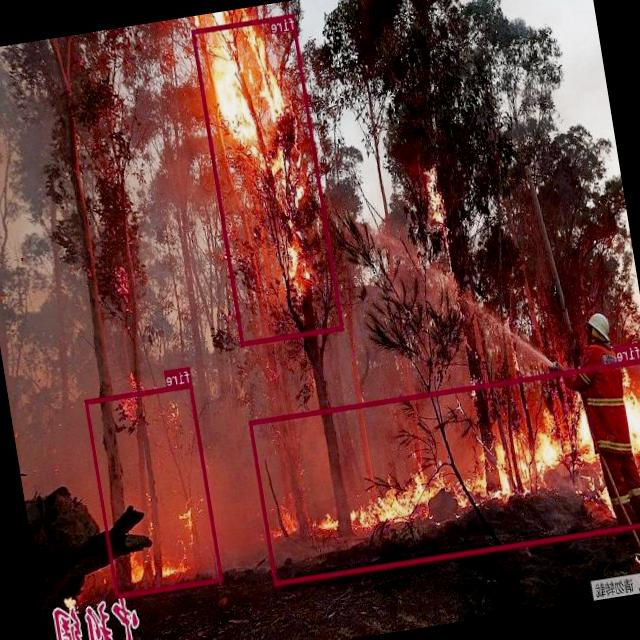fire: (249, 358, 640, 585), (192, 13, 345, 346), (85, 382, 224, 598)
